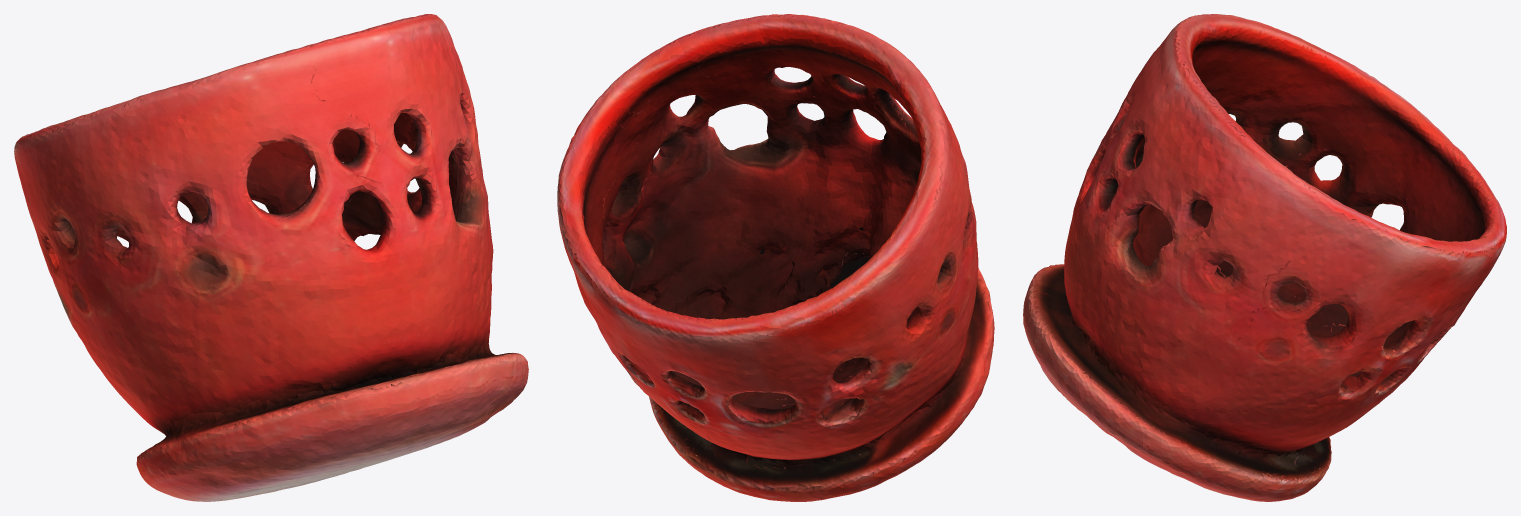
3 renders of one model, left to right at view 1: azimuth 30°, elevation 25°; view 2: azimuth 150°, elevation 25°; view 3: azimuth 270°, elevation 25°, orthographic. The views are drawn at different scales.
Visible parts, largest first — view 1: world; view 2: world; view 3: world.
Boxes of the visible parts, x1=… form: world: x1=14, y1=14, x2=528, y2=501; world: x1=557, y1=14, x2=994, y2=501; world: x1=1023, y1=14, x2=1506, y2=501.
Size of the model in its own units: 0.9876 by 1.16 by 1.19.
Materials: 1 (1 with a texture image).
